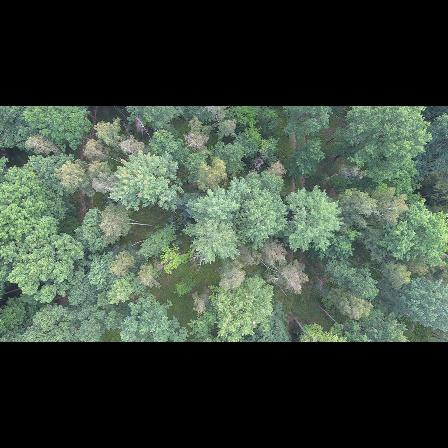Dead: (180, 132, 206, 152)
